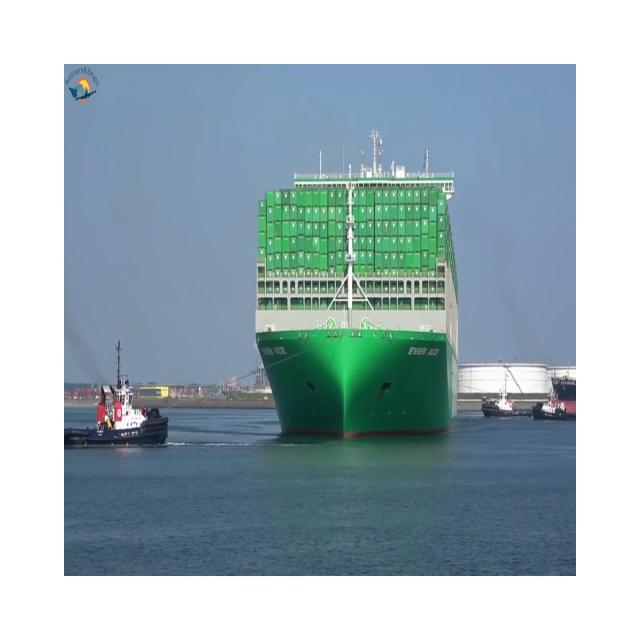OCR: (394, 333, 442, 368), (255, 331, 291, 370)
